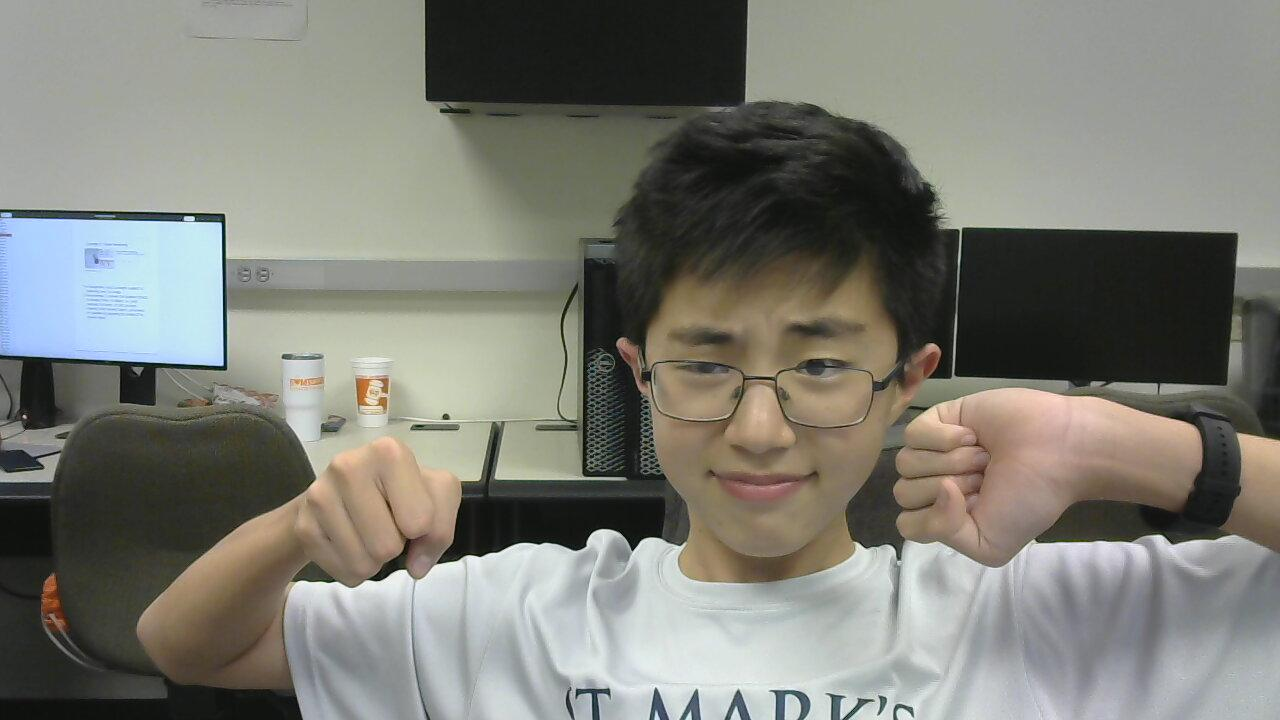fist: (878, 372, 1099, 574), (276, 429, 466, 603)
